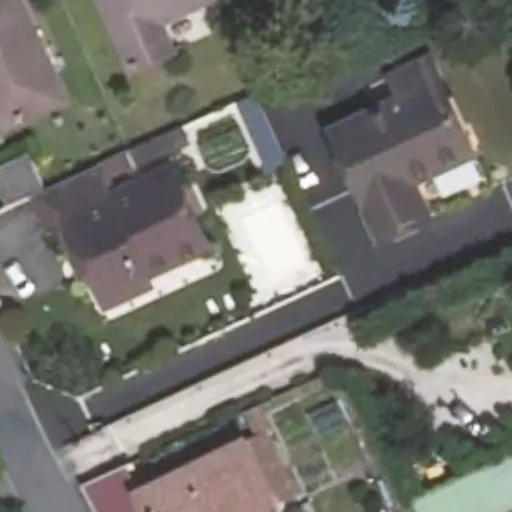pool: (216, 214, 293, 271)
